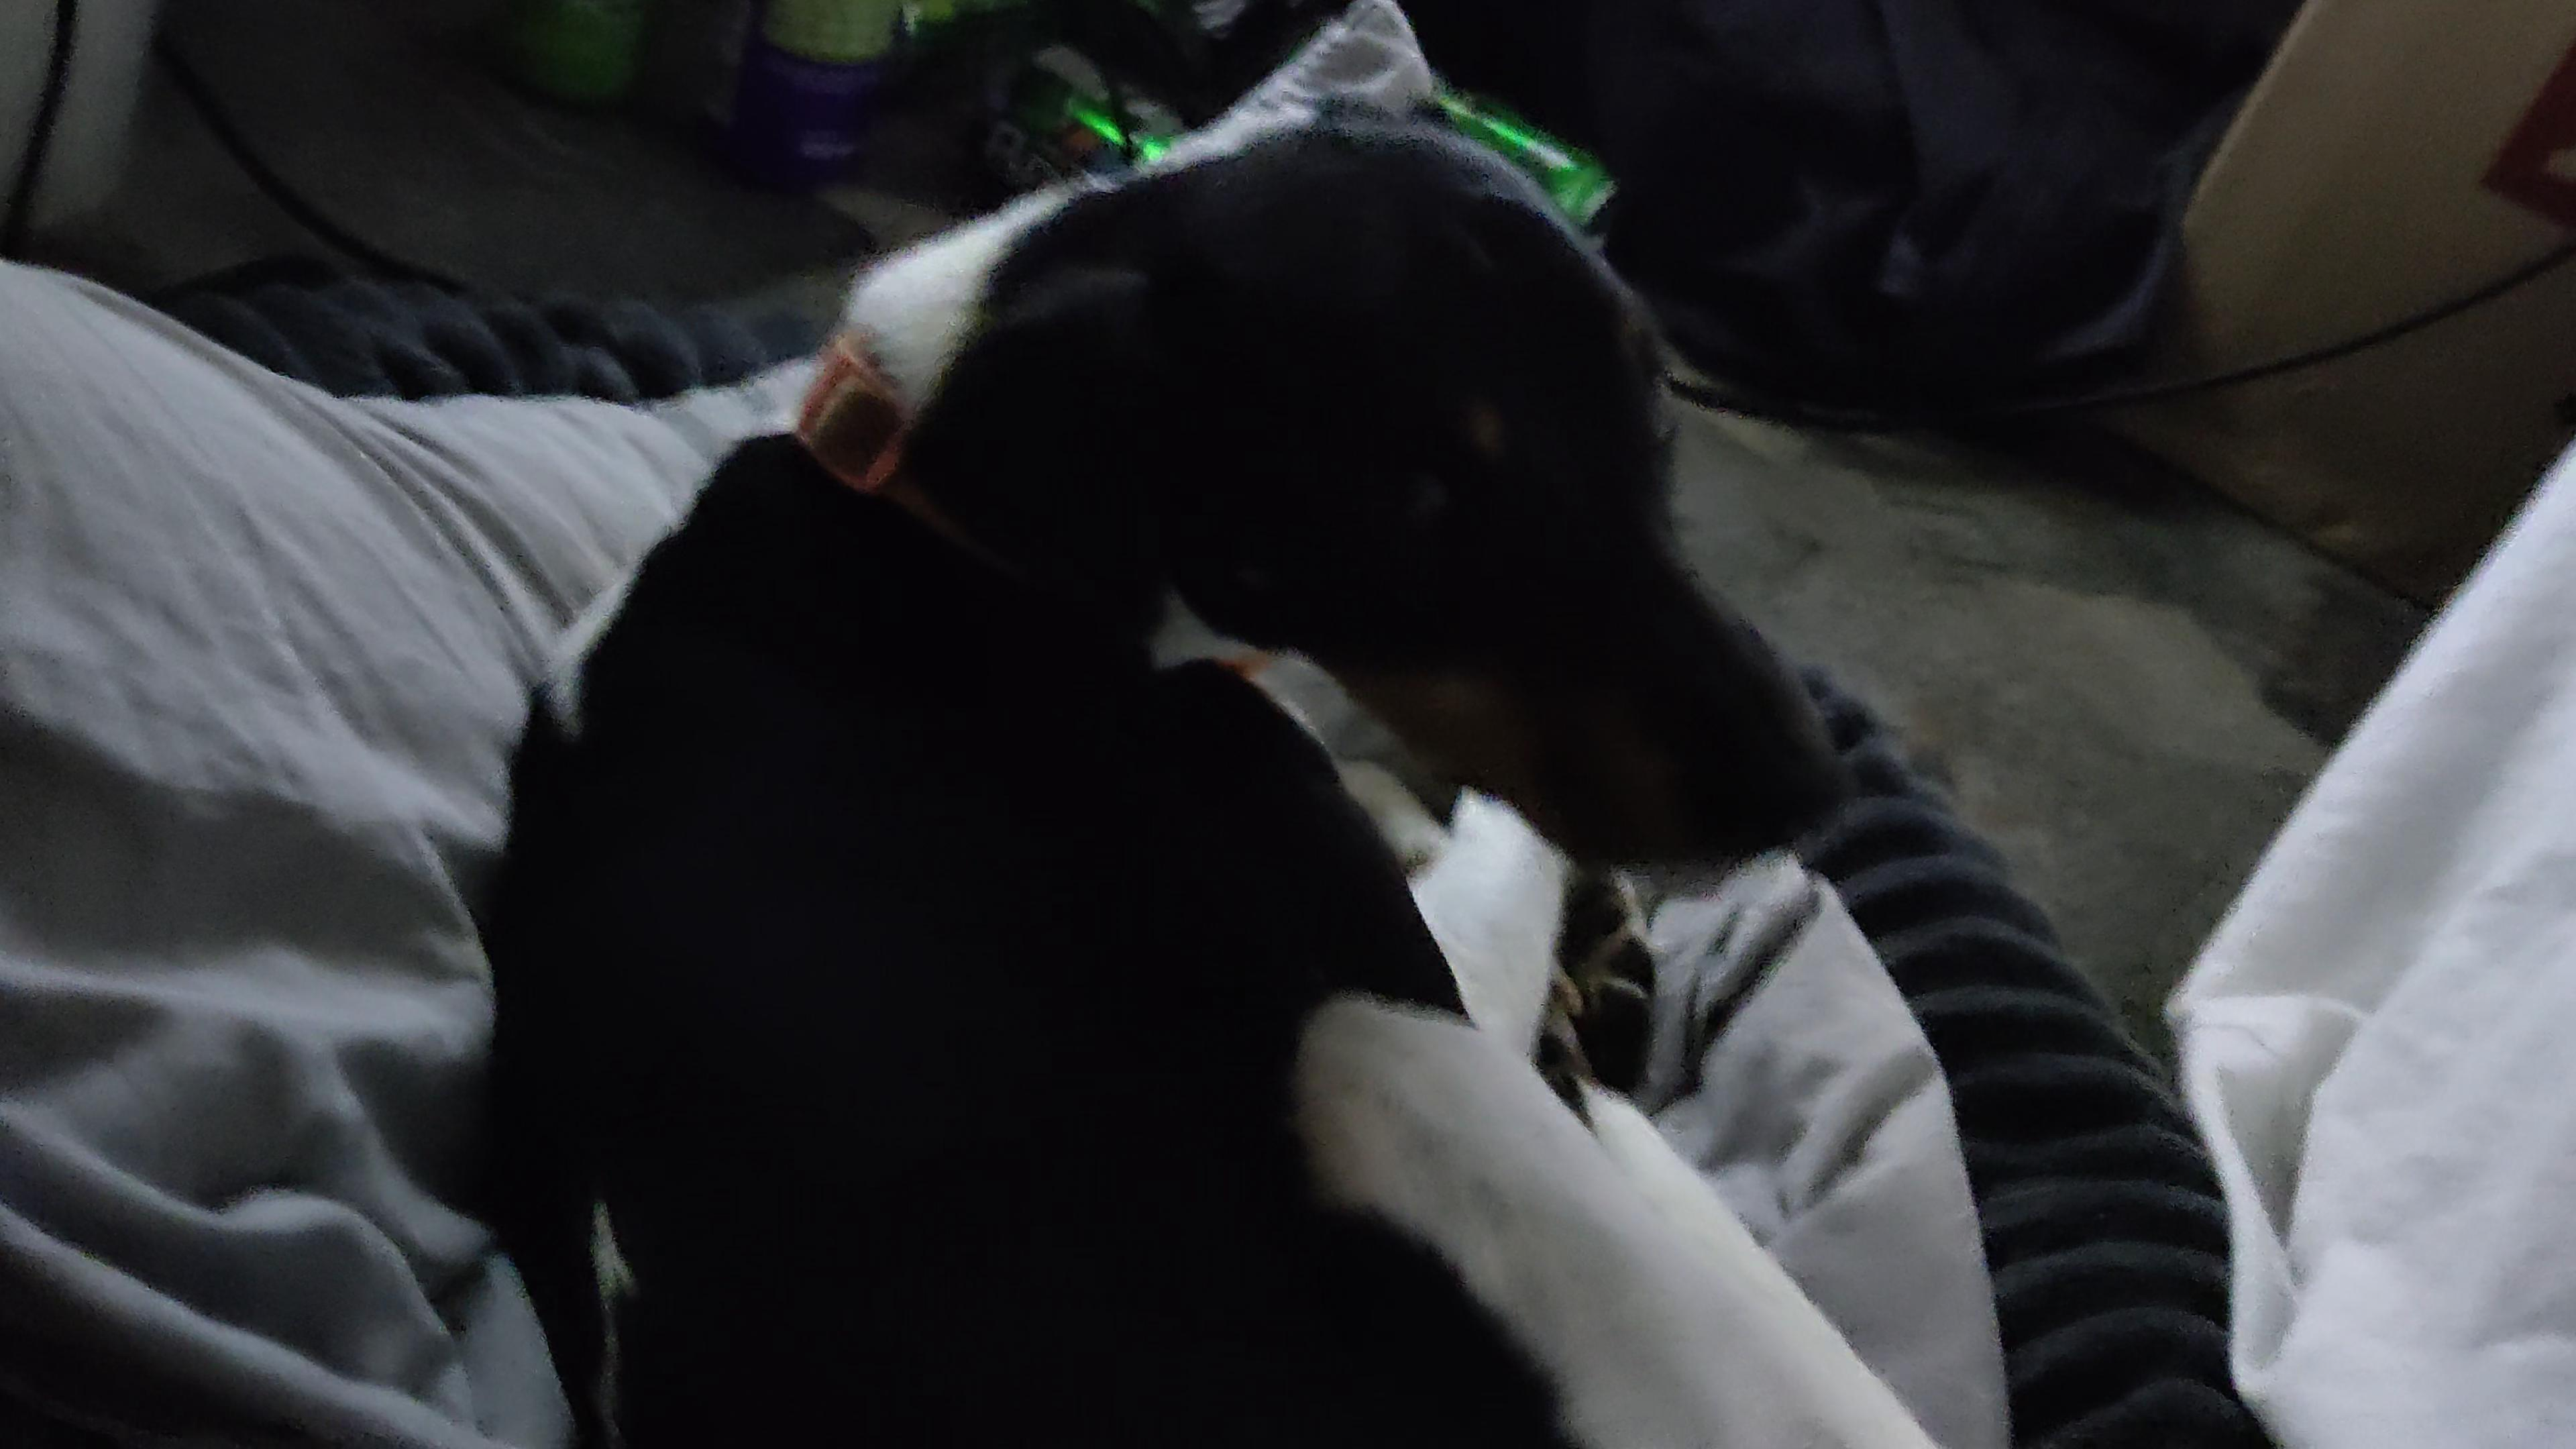Dog: (421, 83, 1953, 1449)
